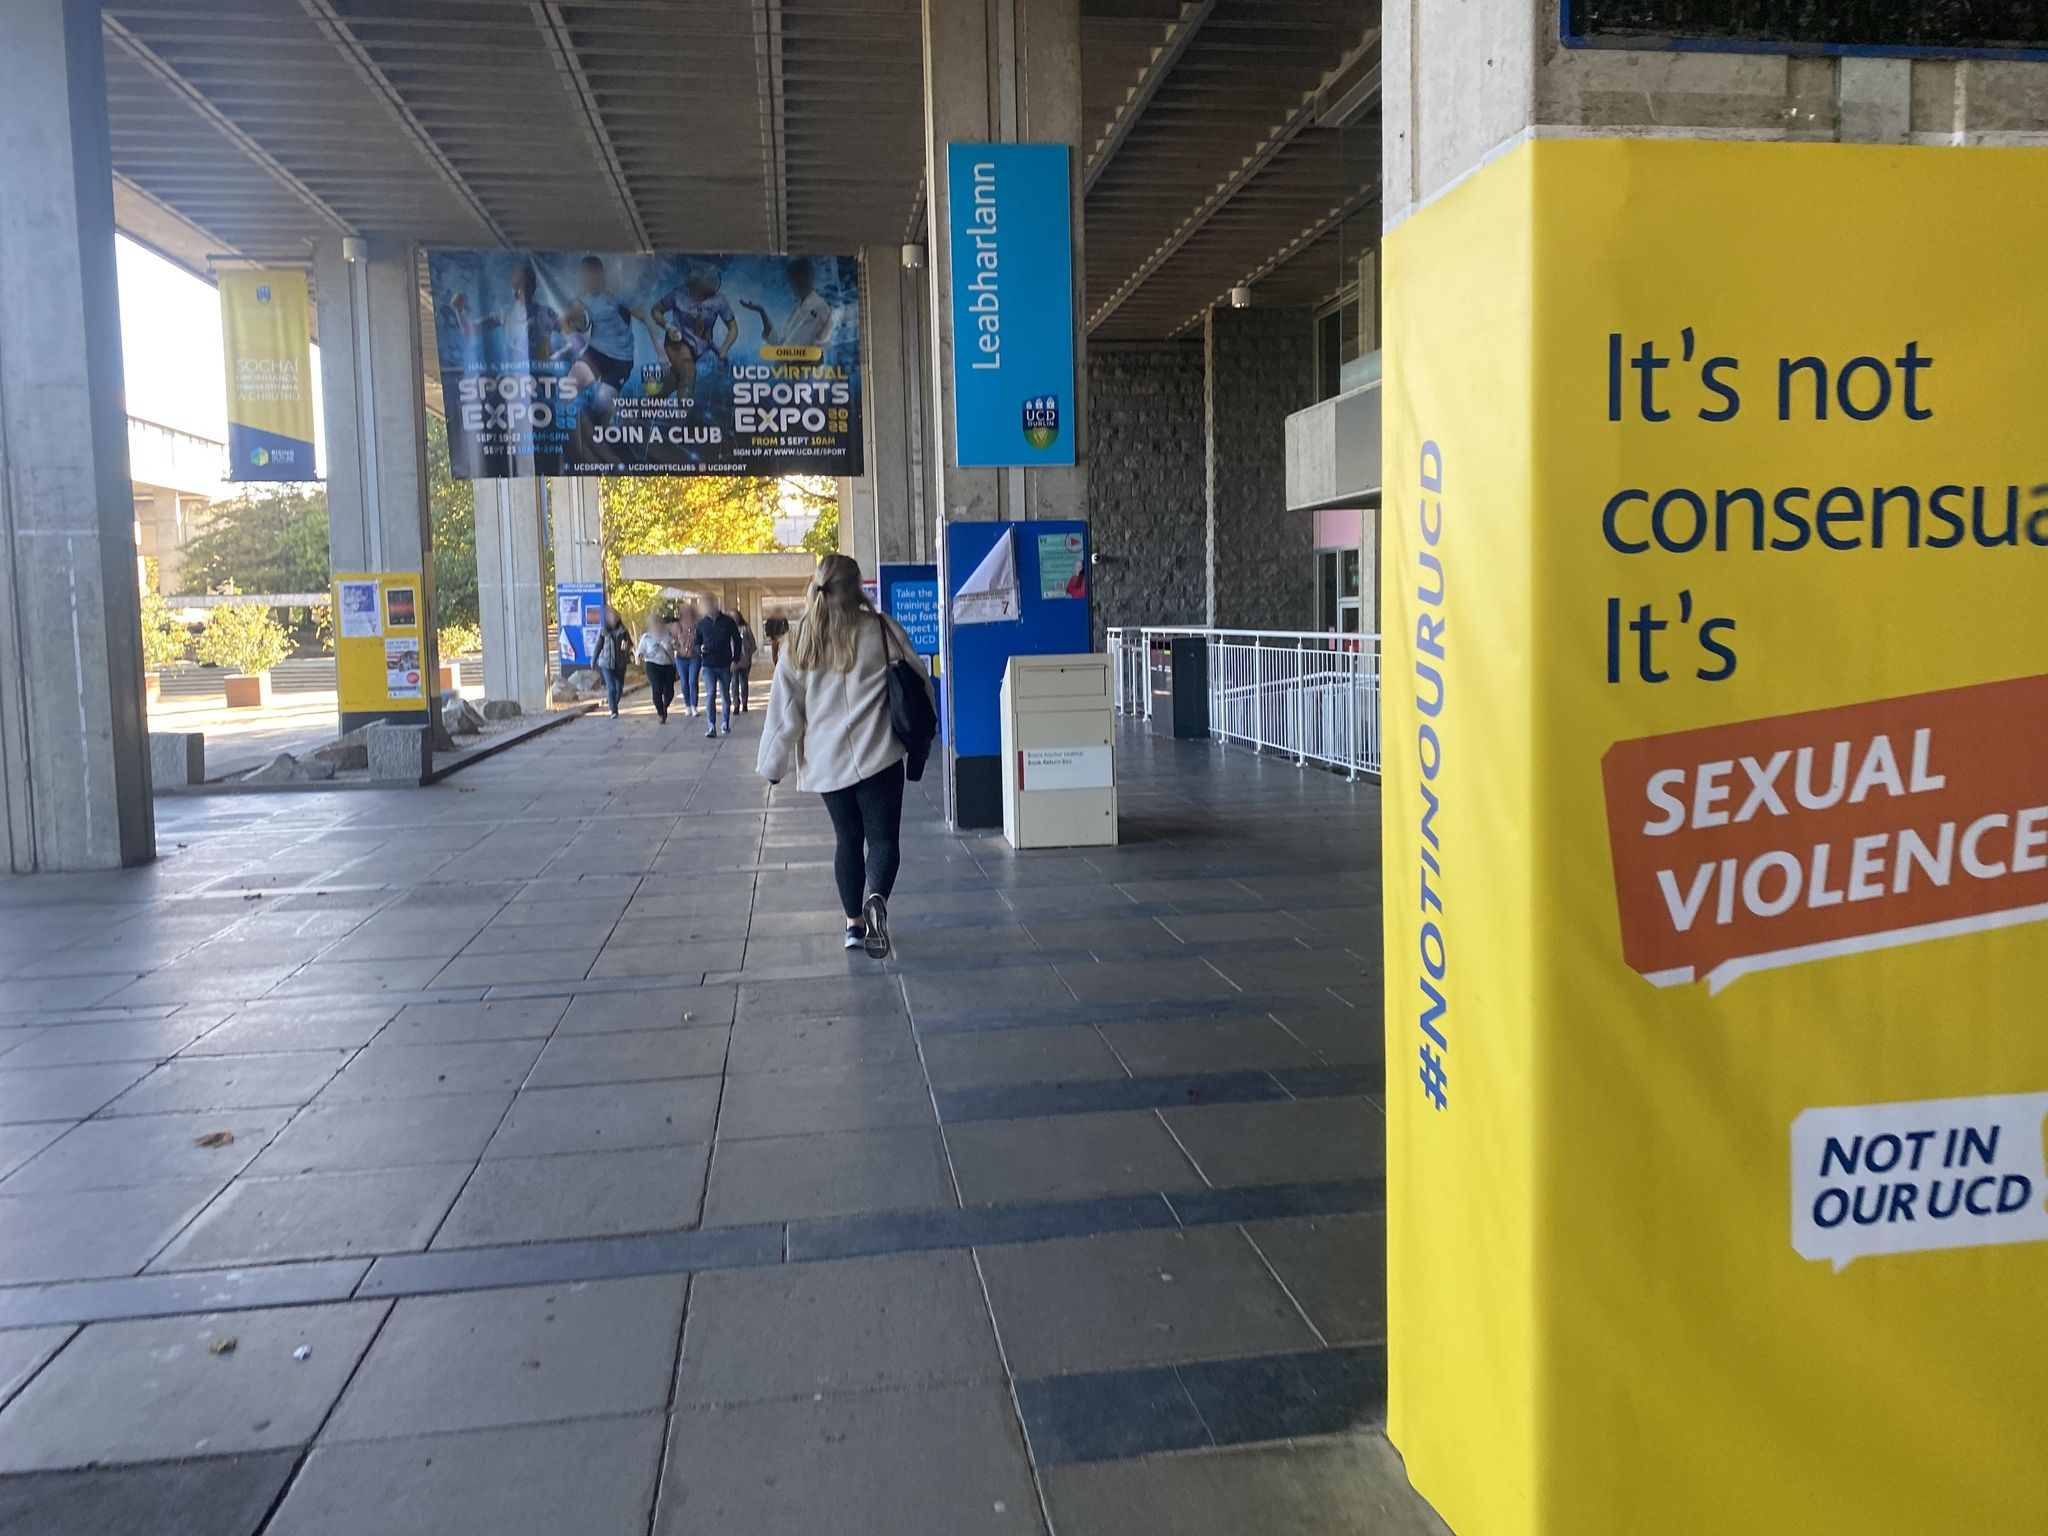vinyl banner: (398, 223, 884, 486)
